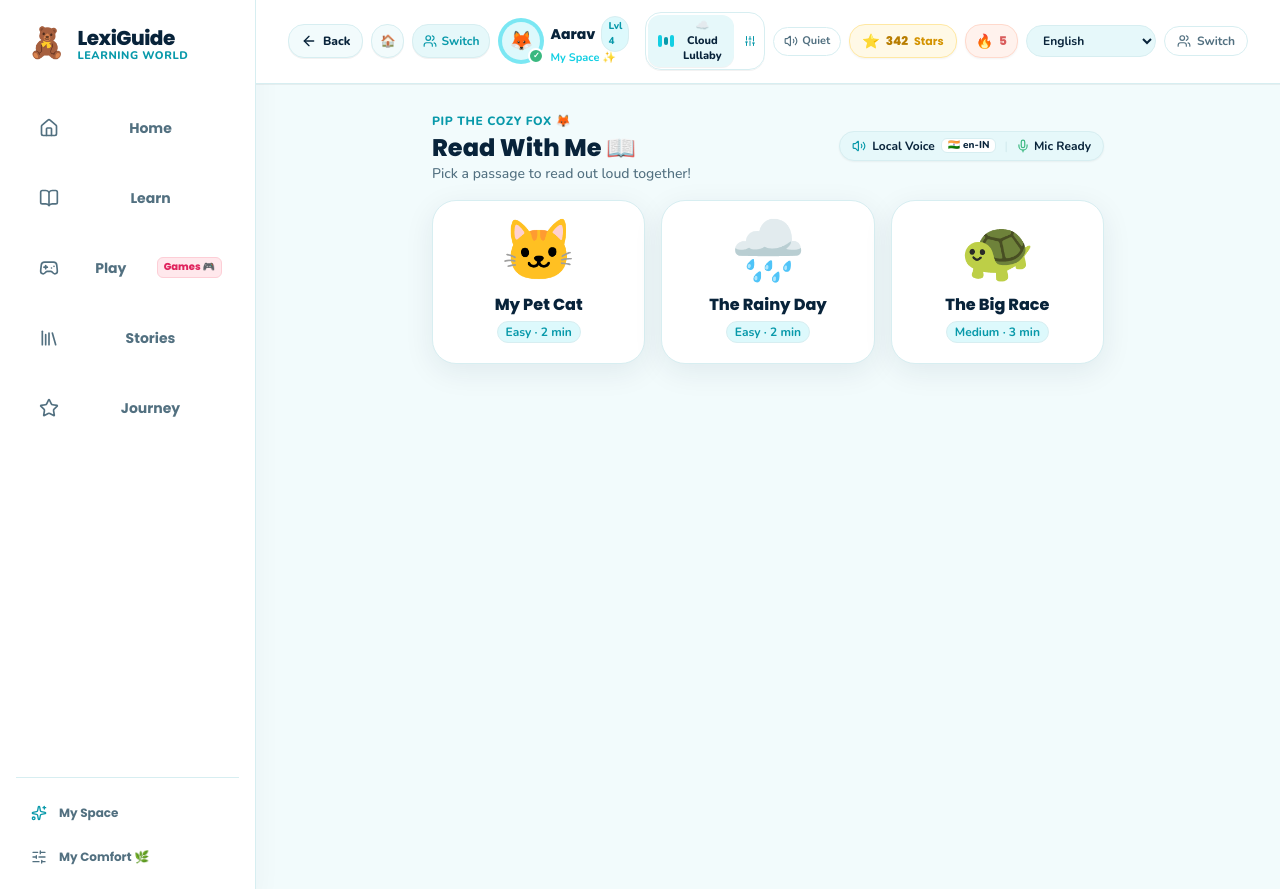
Test: Step 5: Real Browser Microphone + Speech Pipeline Test Suite › 13. Successful audio analysis produces persisted activity result in ReadWithMe
Click the text "My Pet Cat" at (539, 304), box [495,292,583,316]
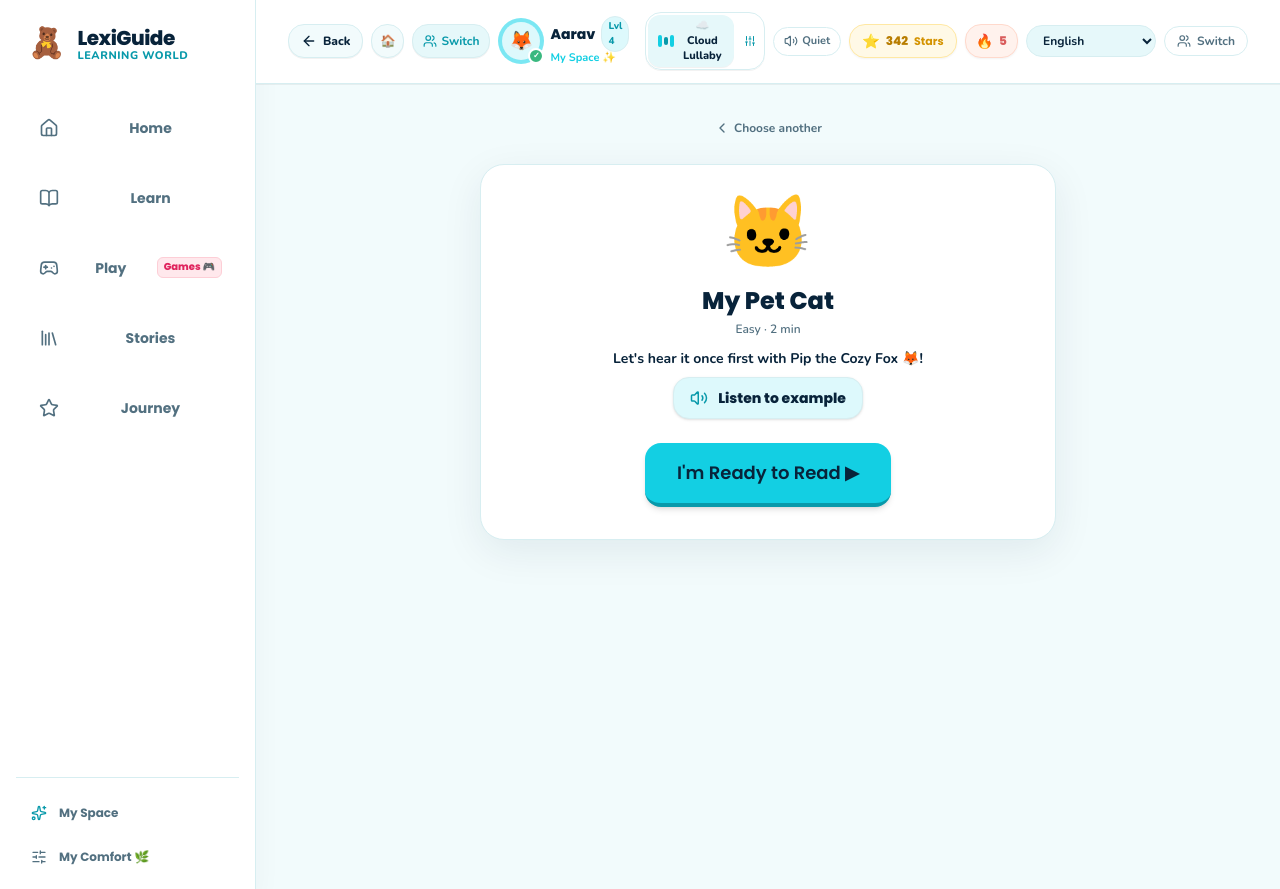
Click the button "I'm Ready to Read ▶" at (768, 474), box [645,442,891,506]
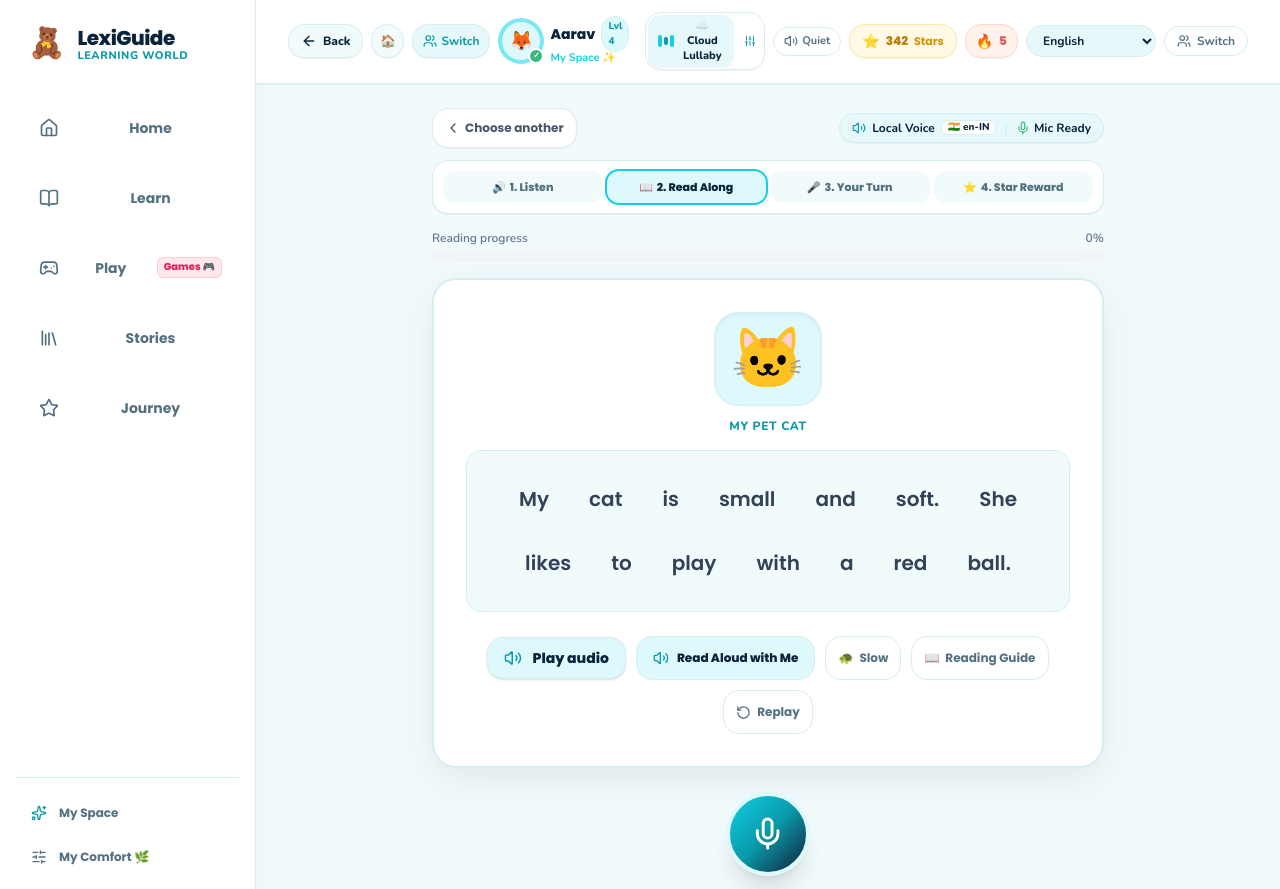
Click the button named "start recording" at (768, 834), box [726,792,810,876]
(page scrolled)
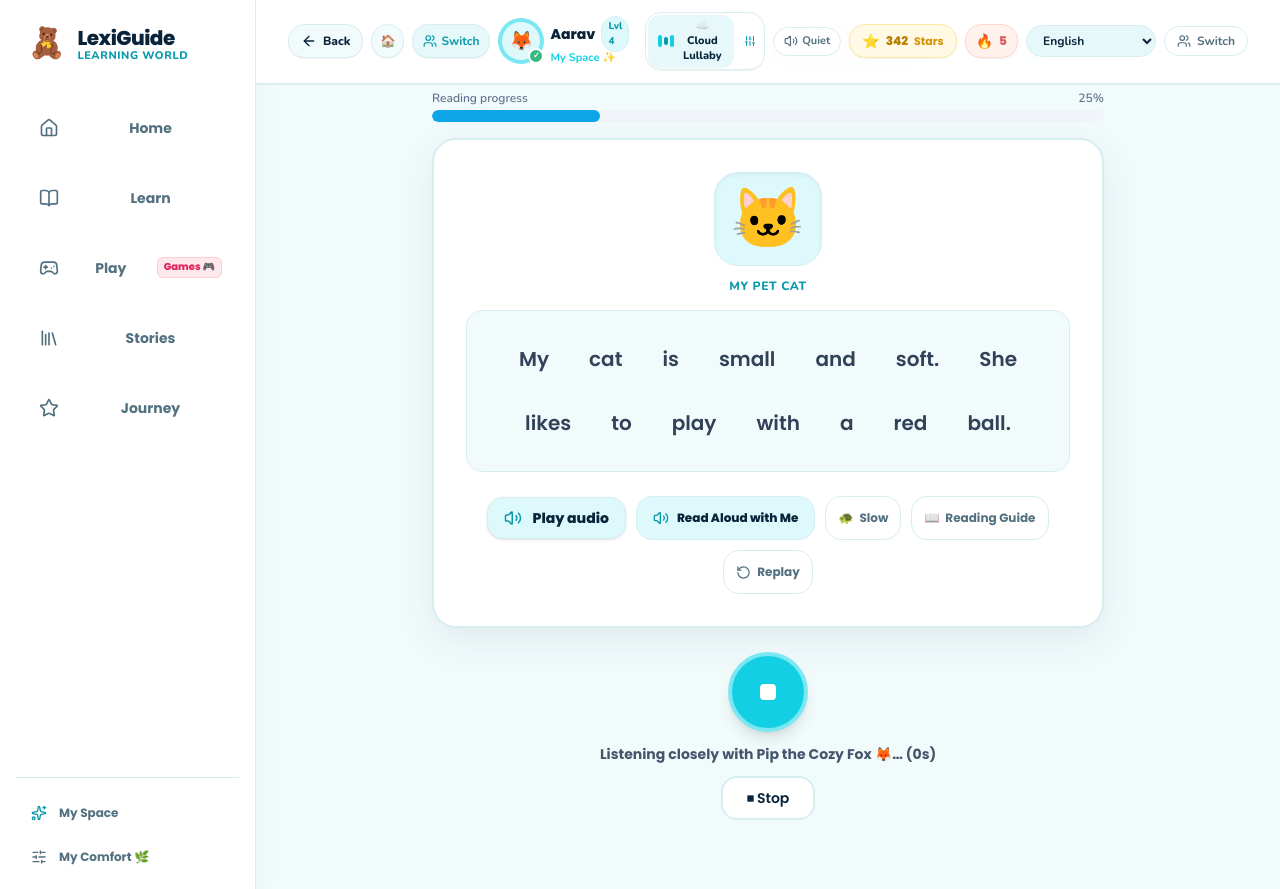
Click the button "⏹ Stop" at (768, 798), box [721,776,815,820]
(page scrolled)
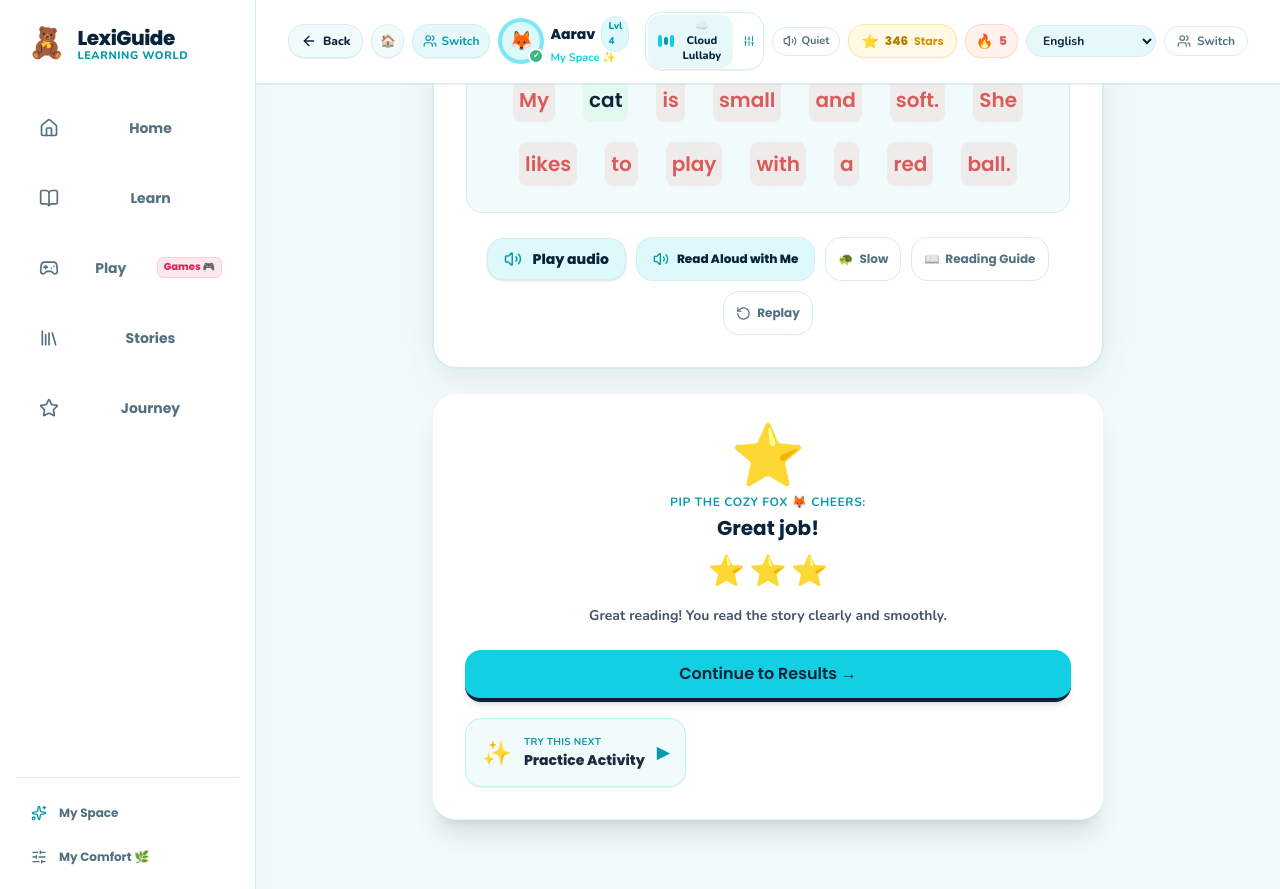
Result: the text "Great job!" is shown at [717,514,819,542]
